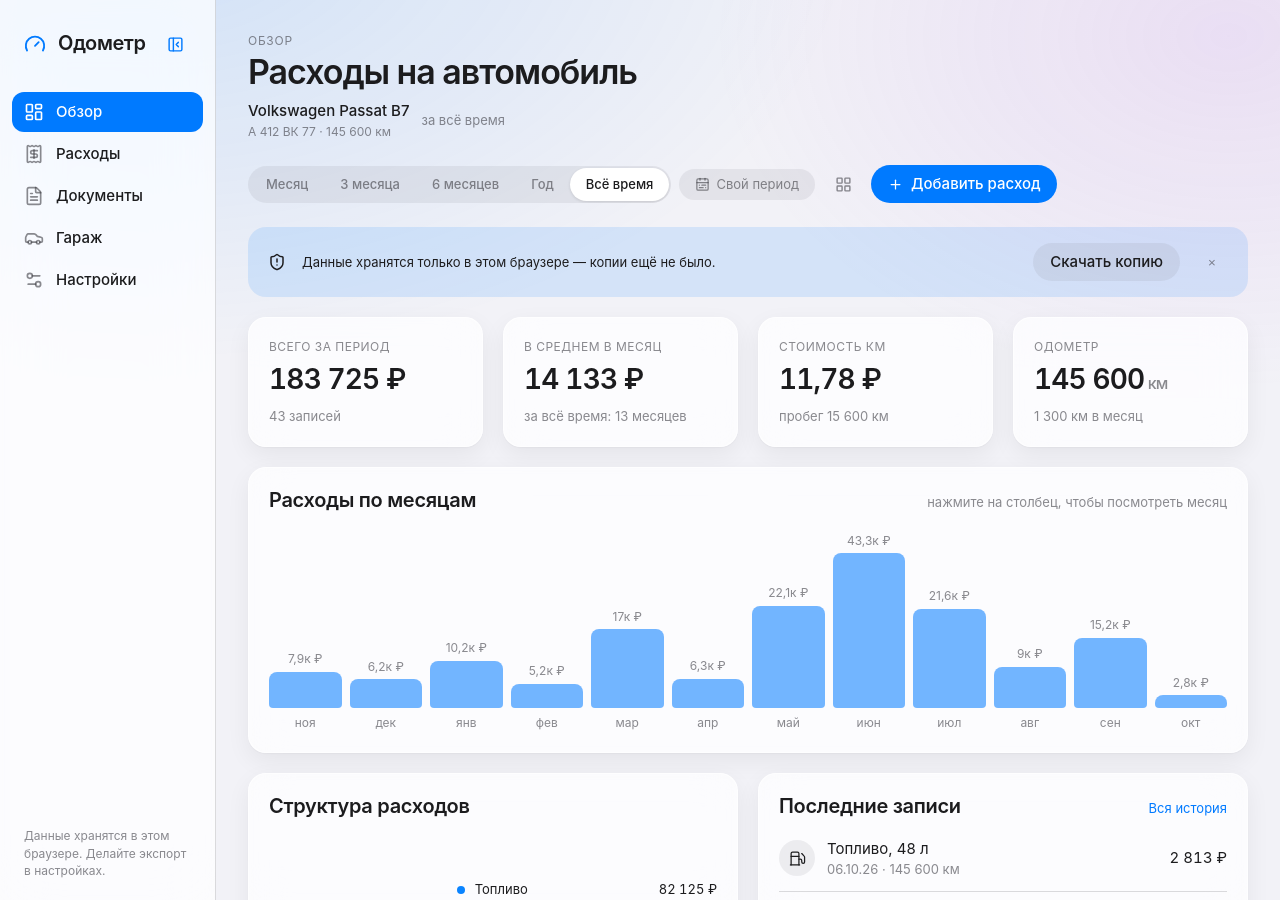
приложение › открывает форму расхода с плитками категорий
What coordinates should you click on to do the following:
click the button "Добавить расход"
I would click on:
 (964, 184)
Its box is [871,165,1057,203].
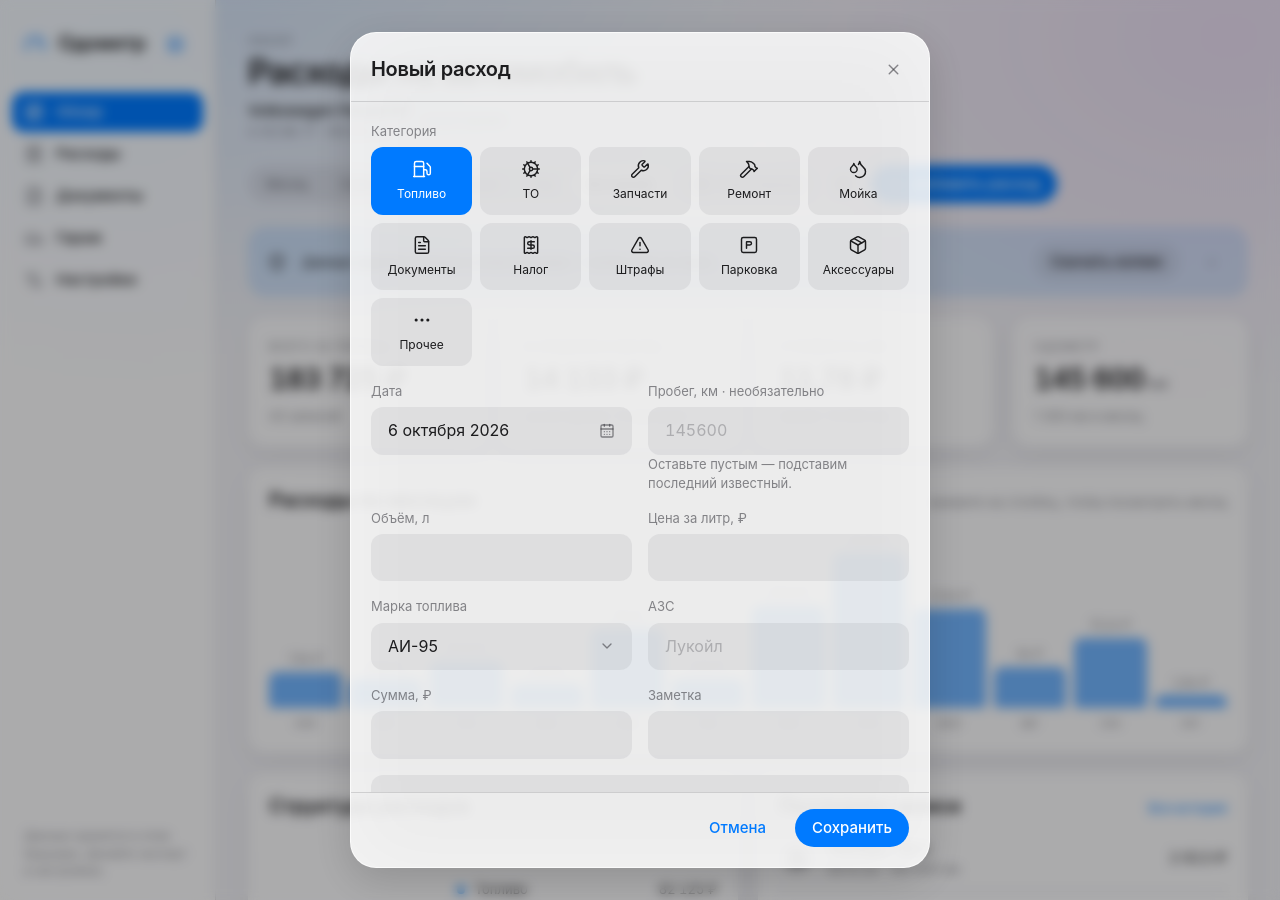
Expected: the heading "Новый расход" is shown, [371,57,510,81]
